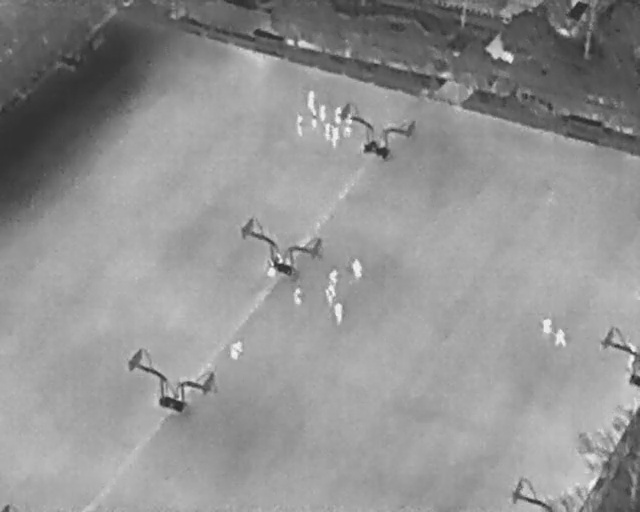Person: (231, 341, 245, 362), (332, 302, 344, 325), (554, 327, 566, 350), (352, 257, 363, 282), (305, 91, 317, 112), (293, 115, 304, 137), (324, 288, 336, 307), (343, 116, 353, 138), (292, 288, 304, 306), (330, 128, 341, 147), (540, 317, 552, 334), (264, 266, 279, 279), (309, 110, 319, 129), (333, 104, 342, 123), (329, 267, 337, 287), (324, 123, 332, 142), (319, 104, 326, 121)
